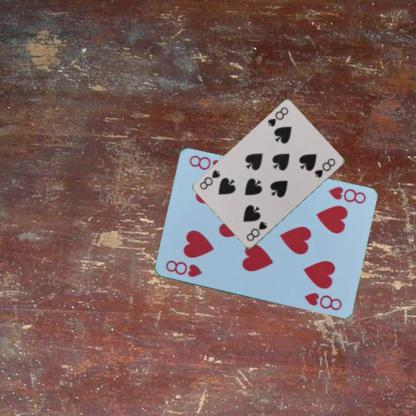8h: (326, 184, 367, 205), (162, 258, 203, 278)
8s: (244, 219, 268, 243), (265, 105, 290, 128)
